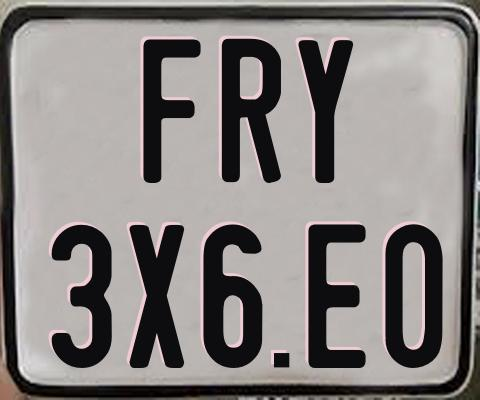0: (384, 224, 443, 369)
3: (52, 225, 113, 370)
6: (203, 223, 267, 373)
E: (305, 223, 367, 371)
F: (141, 39, 200, 183)
R: (219, 37, 279, 185)
X: (126, 223, 186, 367)
Y: (297, 37, 356, 184)
